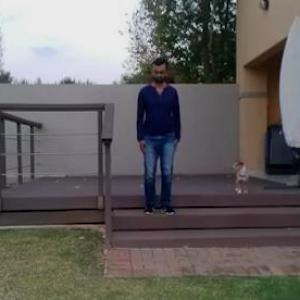follow: (134, 53, 177, 226)
